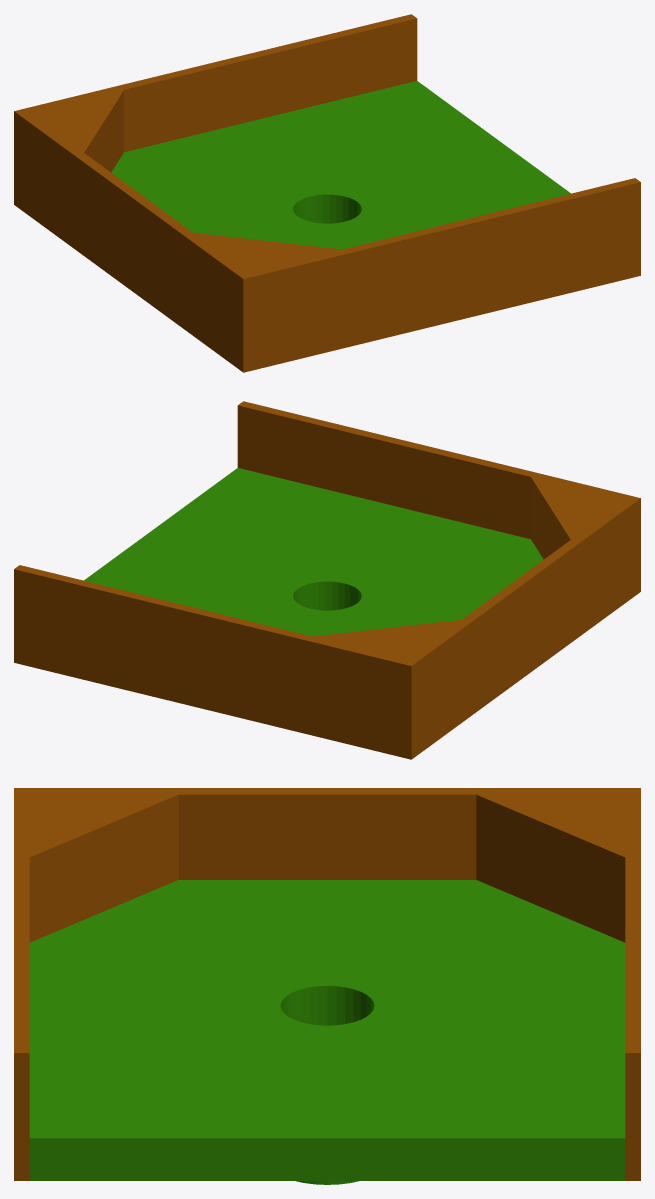
The model's file is end_wide.fbx.
The picture shows the model from 3 angles, top to bottom: view 1: azimuth 30°, elevation 25°; view 2: azimuth 150°, elevation 25°; view 3: azimuth 270°, elevation 25°; orthographic projection. The views are drawn at different scales.
Visible parts, largest first — view 1: Plane; view 2: Plane; view 3: Plane.
Boxes of the visible parts, x1,y1,x2,y2 form: Plane: (14,14,640,372); Plane: (14,401,640,759); Plane: (14,788,640,1184).
Size of the model in its own units: 400 by 168 by 400.
